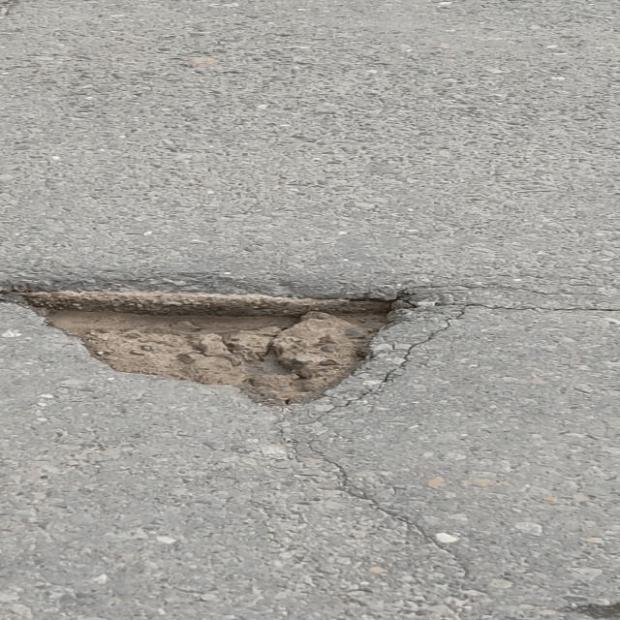lubang: (2, 292, 438, 404)
